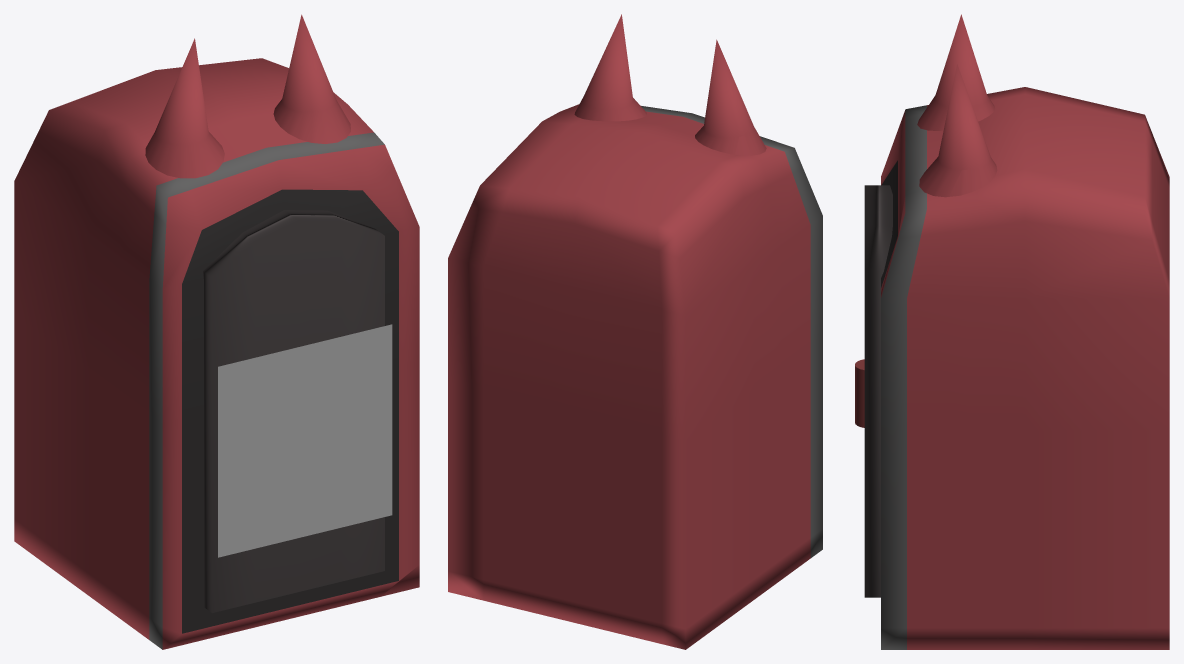
Rendered from Devil_Fridge.fbx.
3 views of the same model, side by side, from view 1: azimuth 30°, elevation 25°; view 2: azimuth 150°, elevation 25°; view 3: azimuth 270°, elevation 25° (orthographic). The views are drawn at different scales.
Parts seen in each view (by area): view 1: Fridge, Fridge_Plane; view 2: Fridge; view 3: Fridge.
Part boxes in pixels (box(x1,y1,x2,y2)): Fridge: box(14, 14, 419, 649); Fridge_Plane: box(218, 324, 392, 557); Fridge: box(448, 14, 822, 649); Fridge: box(855, 14, 1169, 649).
Bounding box in the file's own units: 1 × 2.1 × 1.1.
